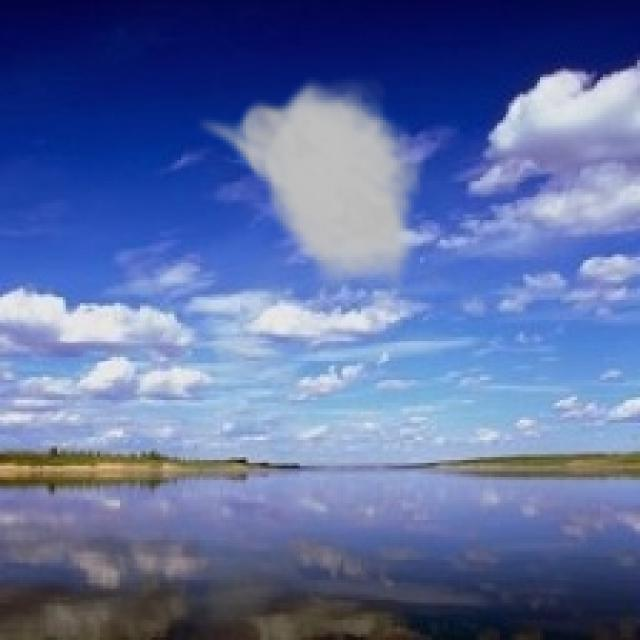smoke: (194, 74, 426, 297)
